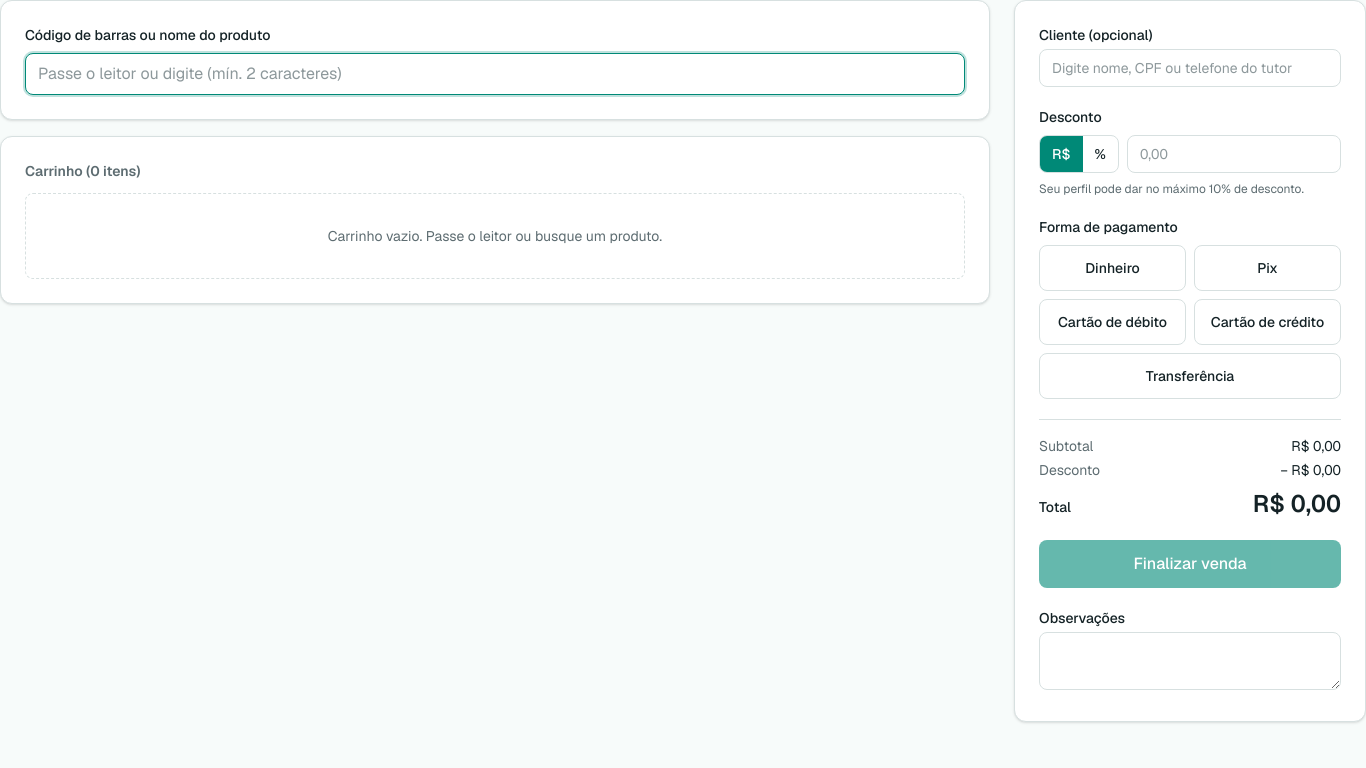
Scenario: finalização no PDV › replay idempotente (200) mostra a mesma venda sem cobrar de novo
Type "7891234567890" into the search field labelled "Código de barras ou nome do produto" at (495, 74), box [25,53,965,95]
Then press Enter
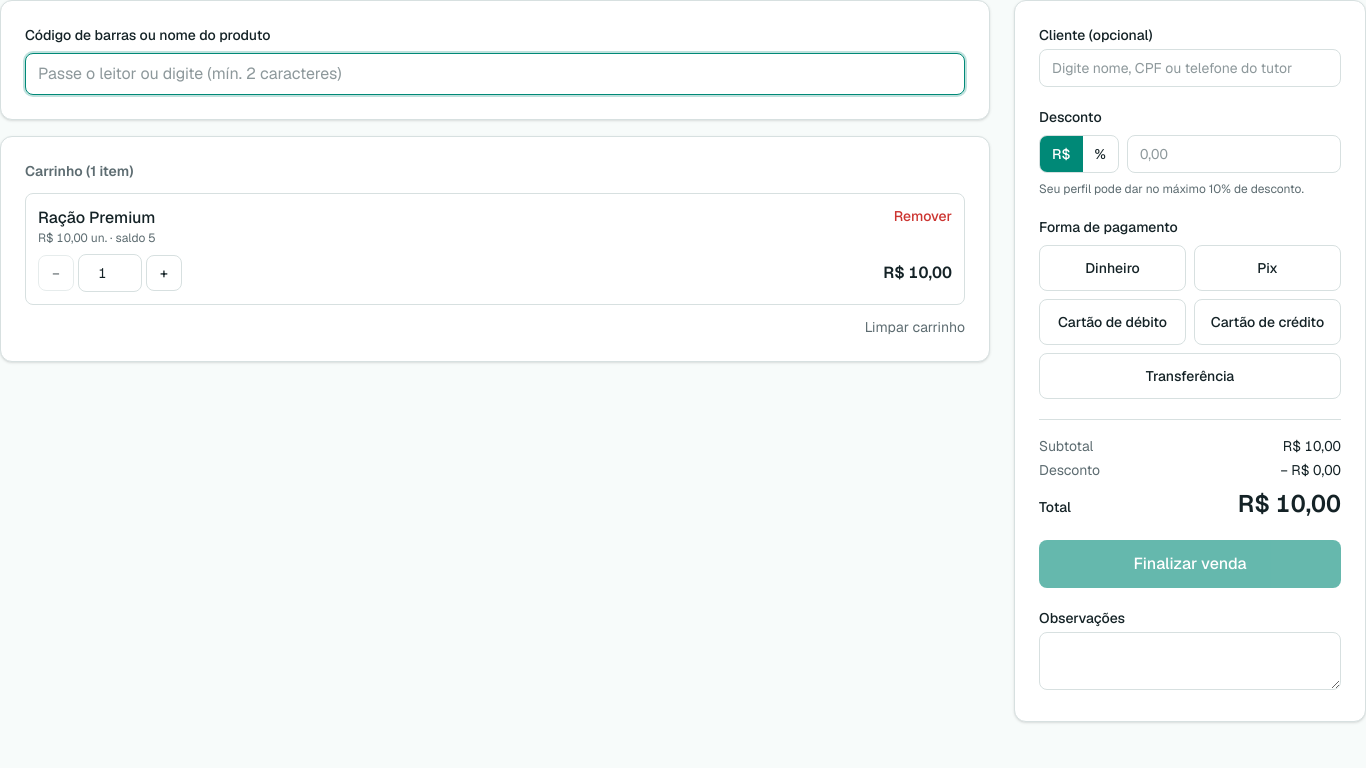
Expected: the list named "Itens do carrinho" is shown, [25,193,965,305]
Click the radio button labelled "Pix" at (1268, 268), box [1194,245,1341,291]
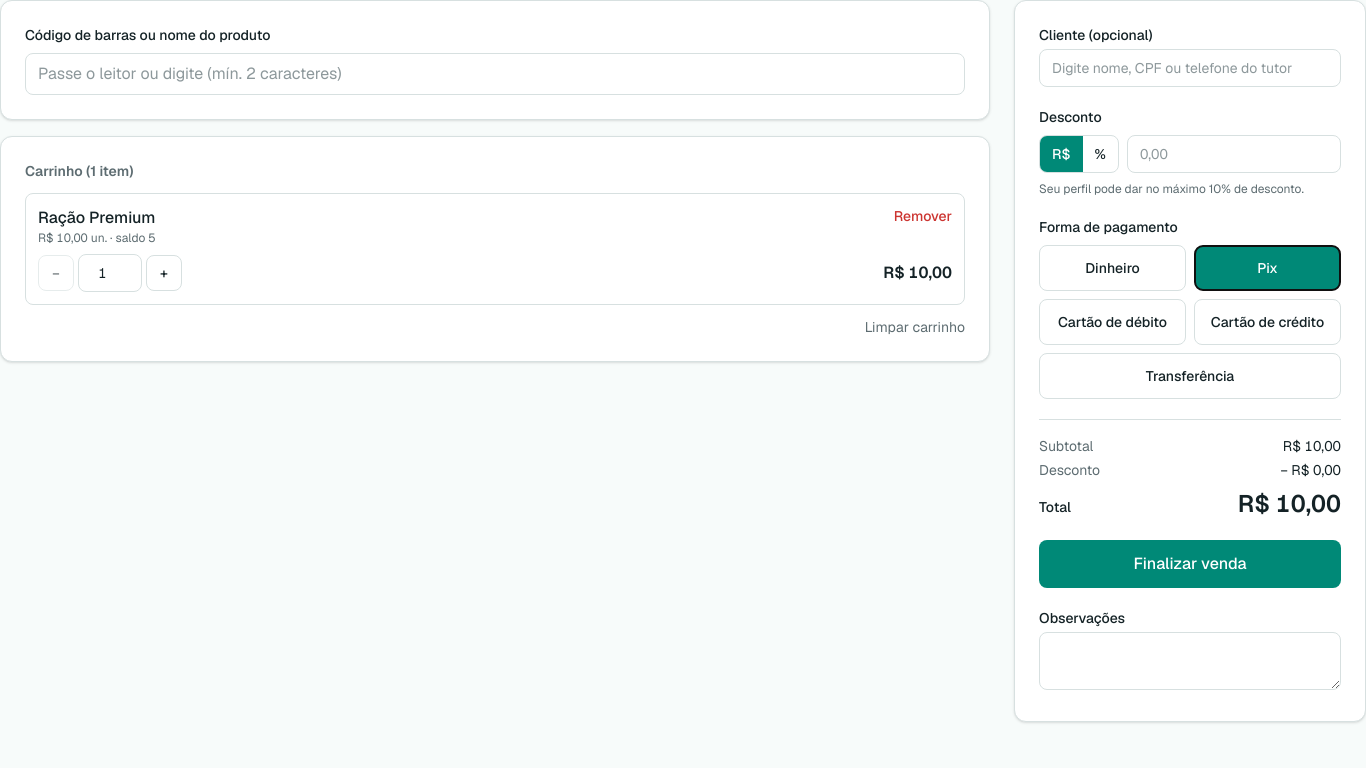
Click the button "Finalizar venda" at (1190, 564), box [1039,540,1341,588]
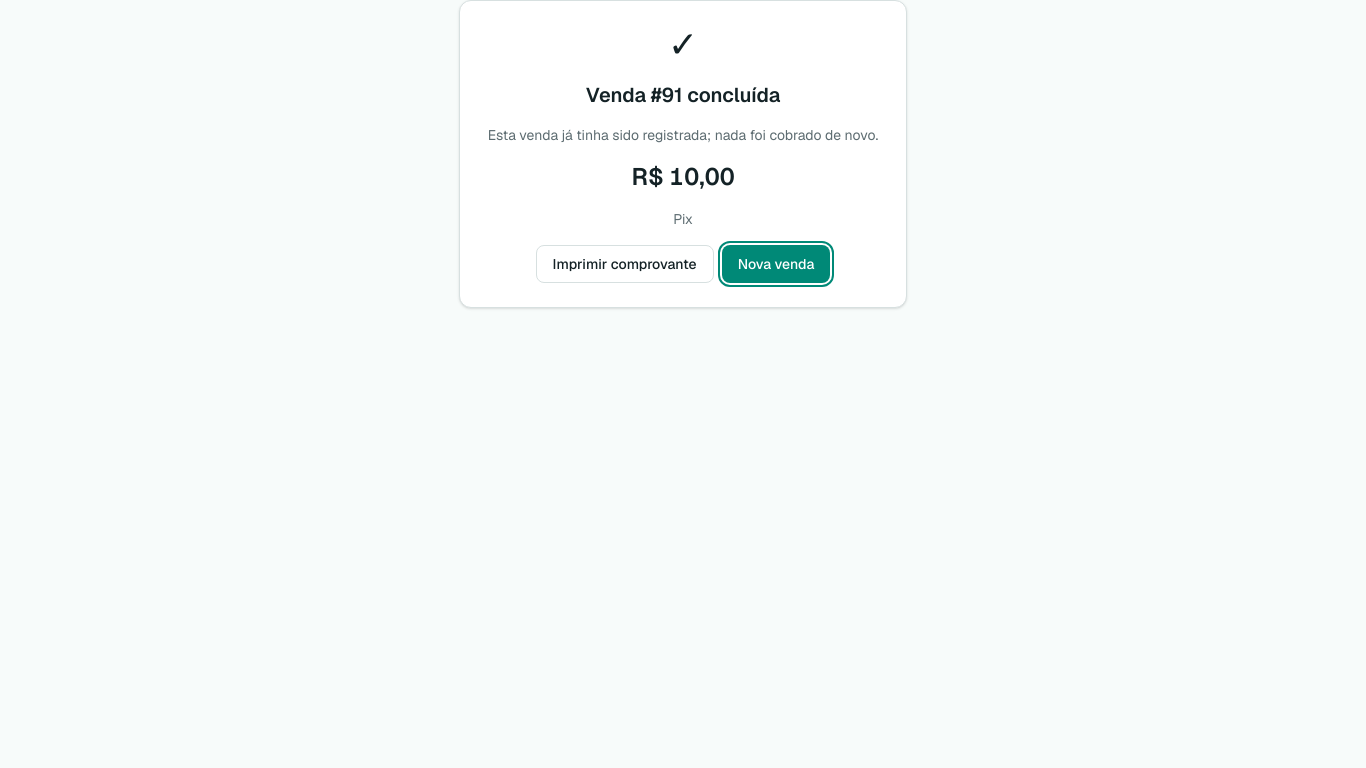
Expected: the heading "Venda #91 concluída" is shown, [586,82,780,108]
Expected: the text "já tinha sido registrada" is shown, [488,126,878,144]
